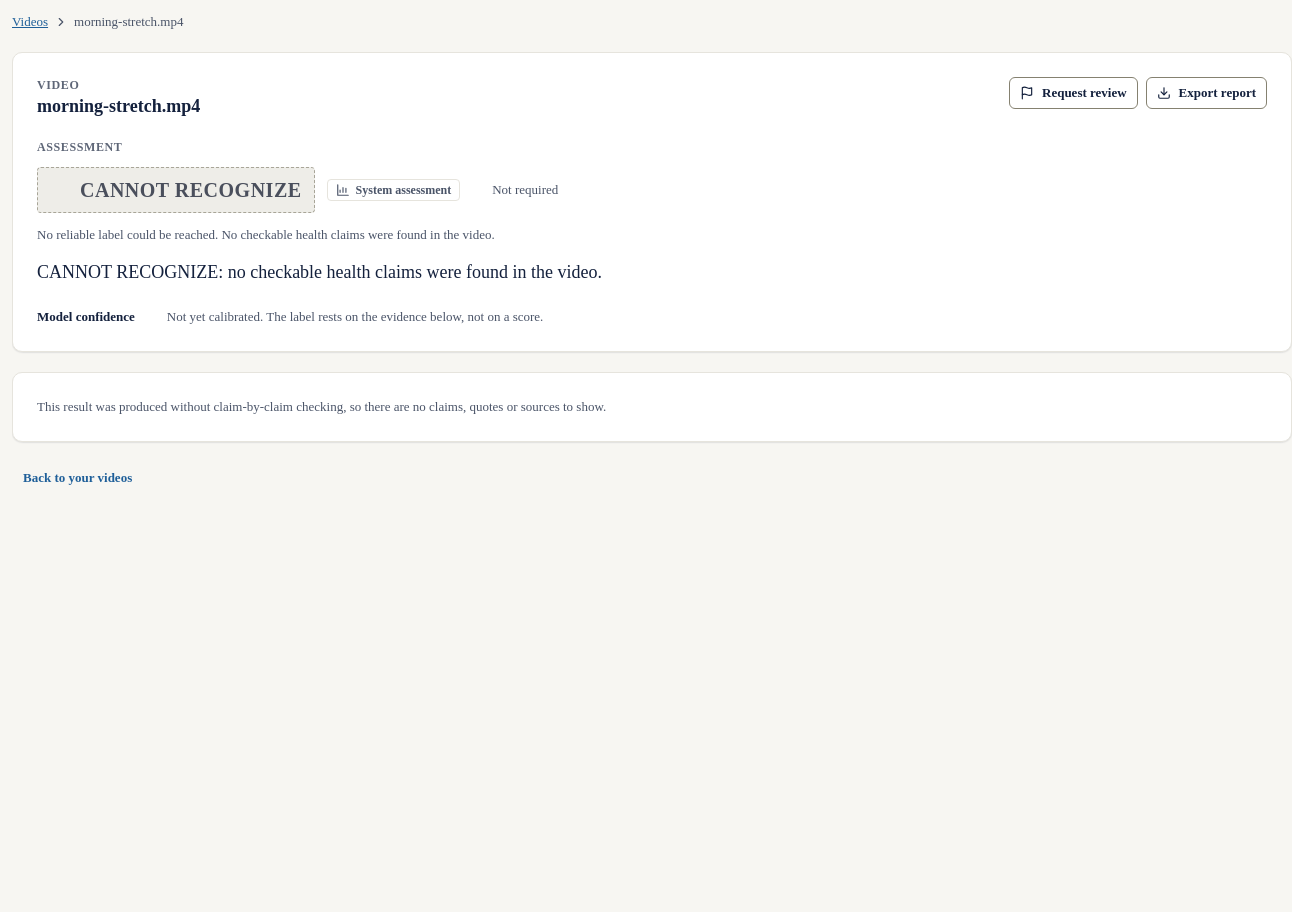
Test: Request review on the result page (T32) › needs a note, sends it, and says the label is now provisional
Click the button "Request review". click: [1073, 93]
box: [1009, 77, 1138, 109]
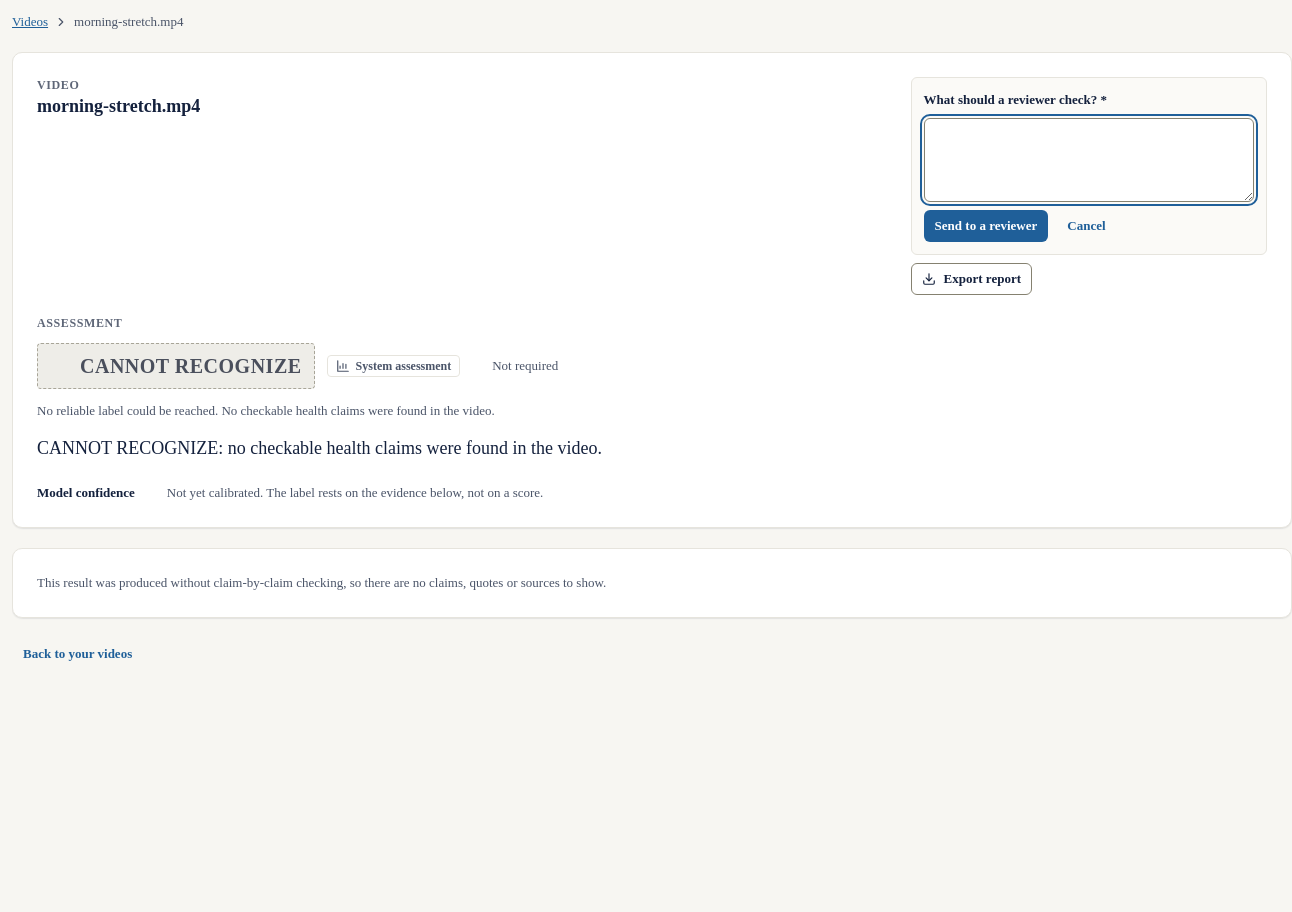
Click the button "Send to a reviewer". click: [986, 226]
box: [924, 210, 1048, 242]
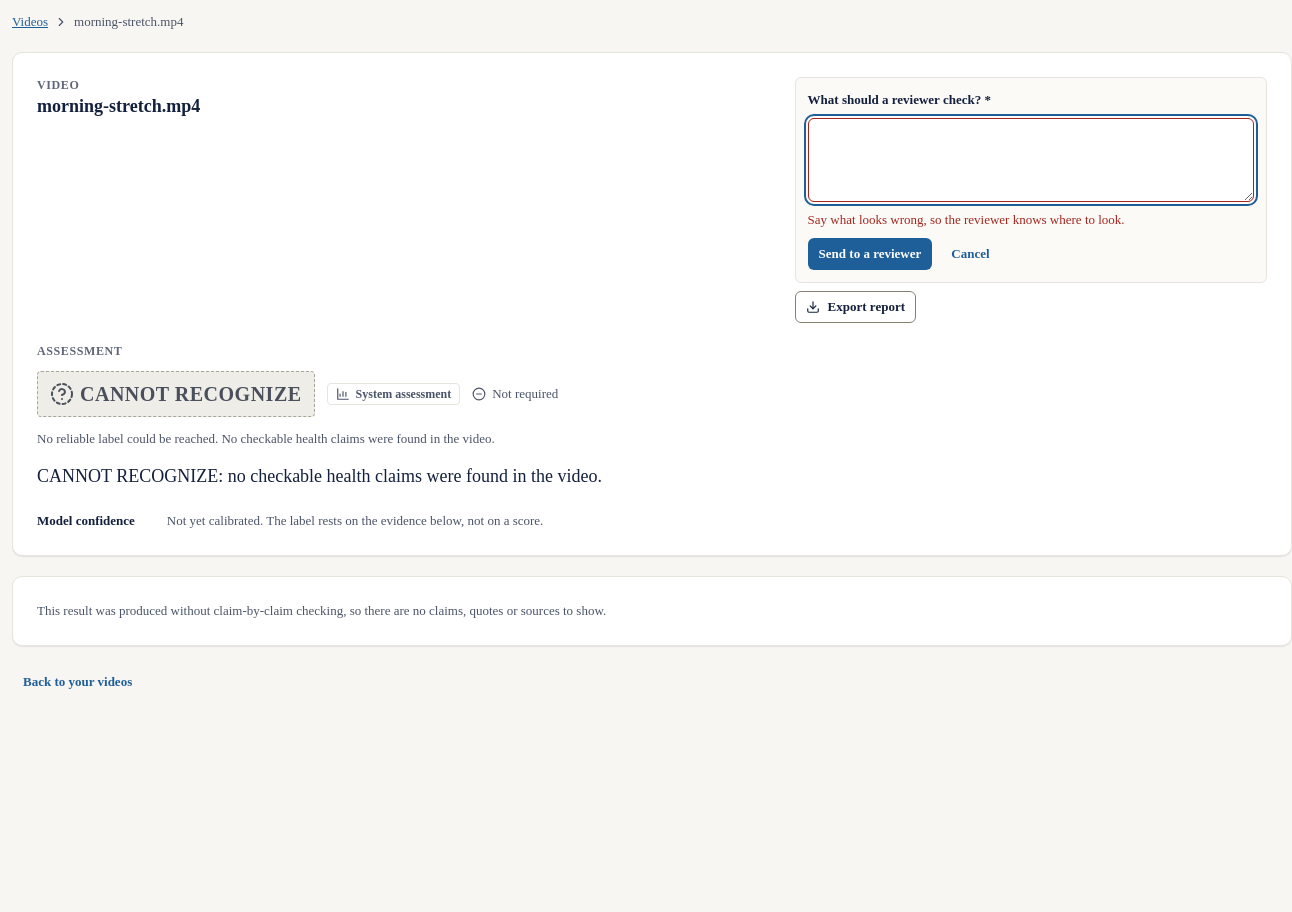
Now the message shows "Say what looks wrong", box [808, 212, 1125, 227]
Type "The stretch advice is fine but check the end." into the text box labelled "What should a reviewer check? *". click: [1031, 160]
box: [808, 118, 1254, 202]
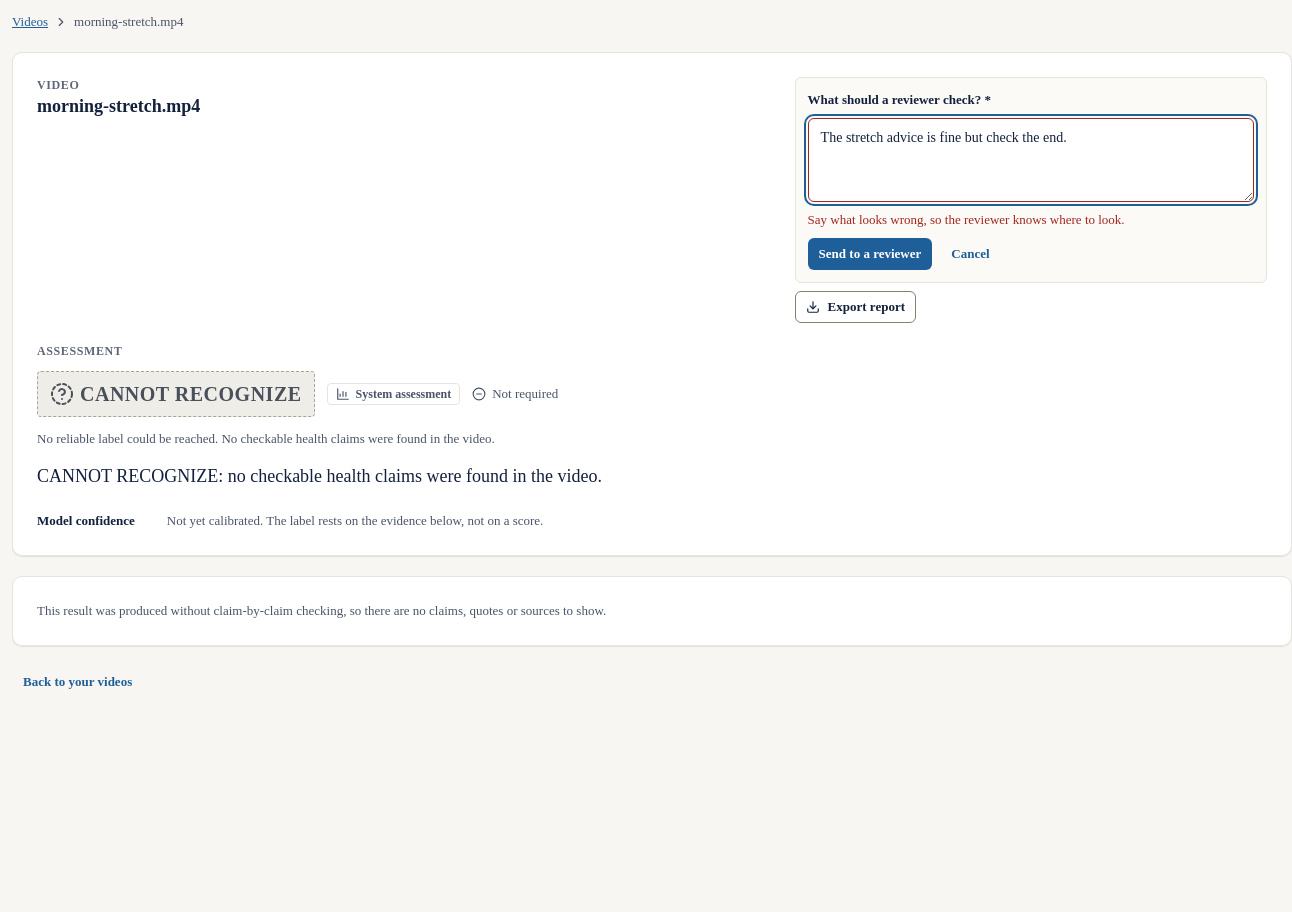
Click the button "Send to a reviewer". click: [870, 254]
box: [808, 238, 932, 270]
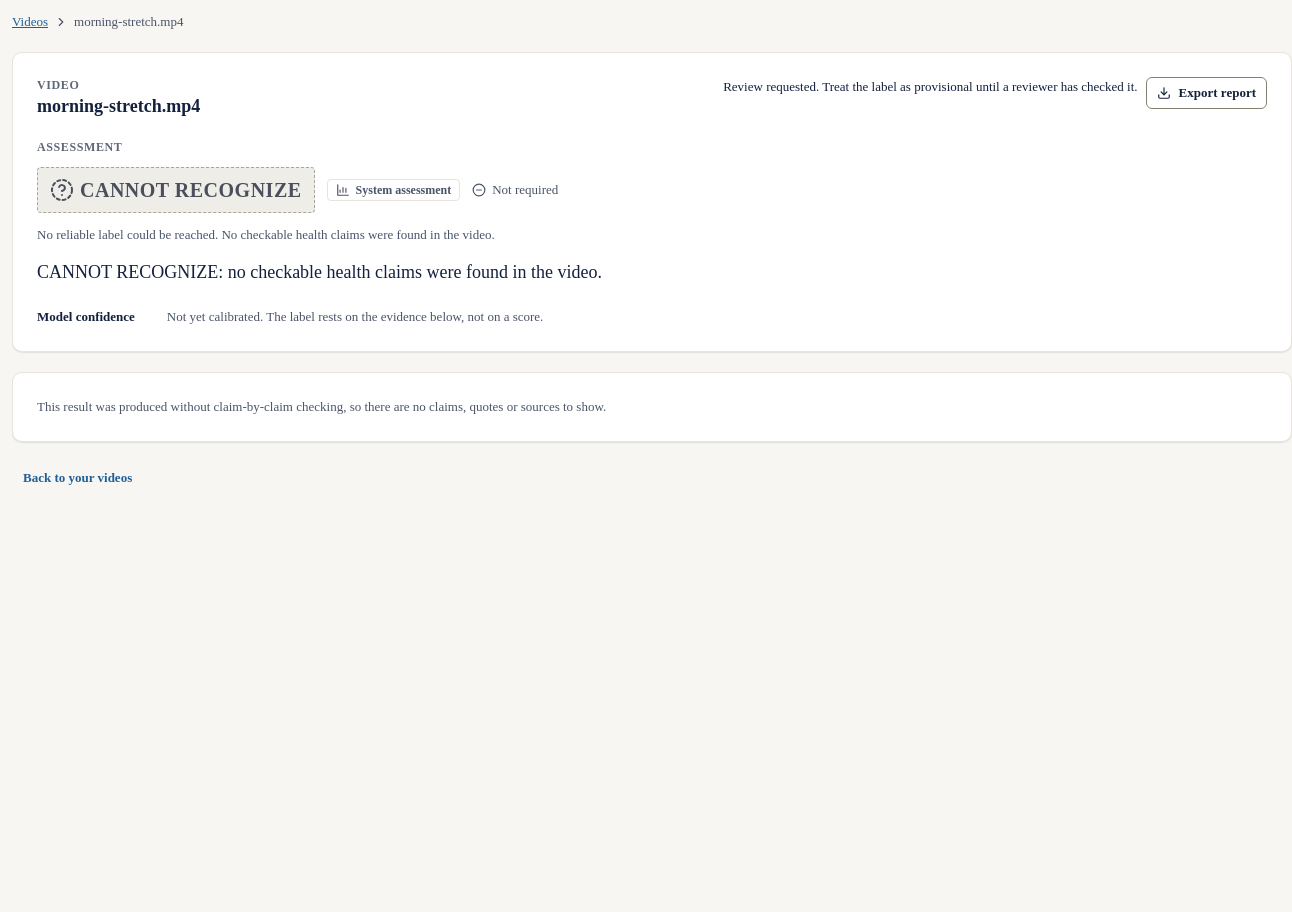
Now the text "Review requested. Treat the label as provisional" is shown, box [723, 79, 1138, 94]
